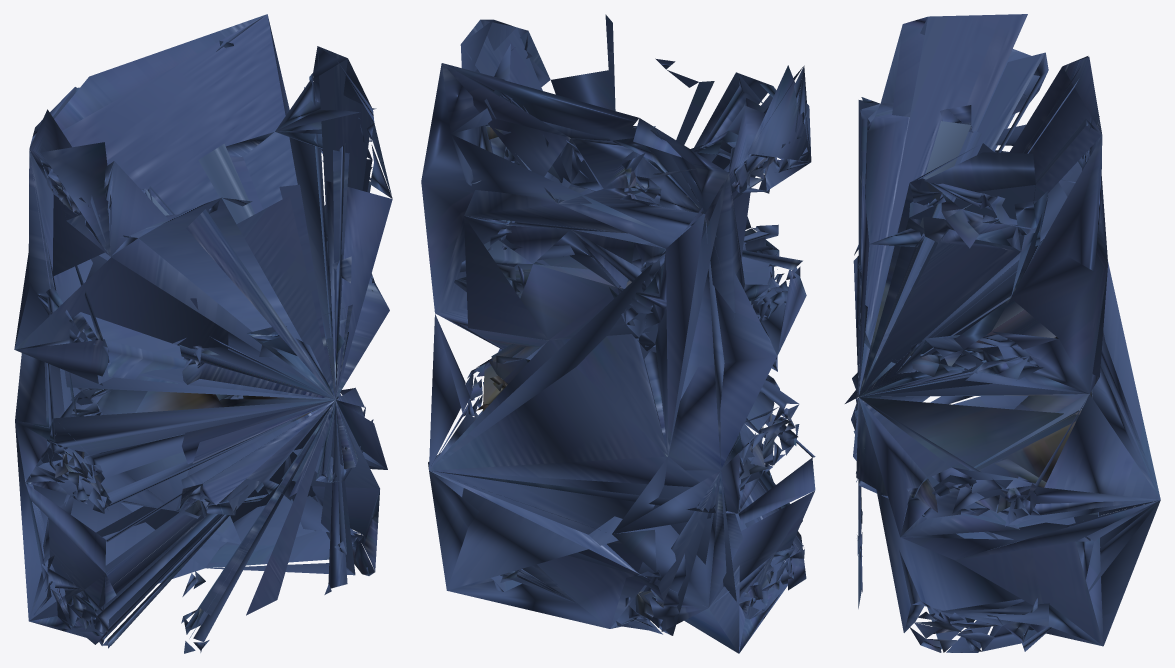
File: beer_crates.glb
3 renders of one model, left to right at view 1: azimuth 30°, elevation 25°; view 2: azimuth 150°, elevation 25°; view 3: azimuth 270°, elevation 25°, orthographic. The views are drawn at different scales.
Visible parts, largest first — view 1: tripo_node_40889c71-8990-4c7b-931a-6c660e0dafc6; view 2: tripo_node_40889c71-8990-4c7b-931a-6c660e0dafc6; view 3: tripo_node_40889c71-8990-4c7b-931a-6c660e0dafc6.
Part boxes in pixels (box(x1,y1,x2,y2)): tripo_node_40889c71-8990-4c7b-931a-6c660e0dafc6: box(14, 14, 392, 653); tripo_node_40889c71-8990-4c7b-931a-6c660e0dafc6: box(421, 14, 815, 653); tripo_node_40889c71-8990-4c7b-931a-6c660e0dafc6: box(845, 14, 1160, 652).
Bounding box in the file's own units: 0.3342 × 0.52 × 0.2811.
1 material, 1 textured.
